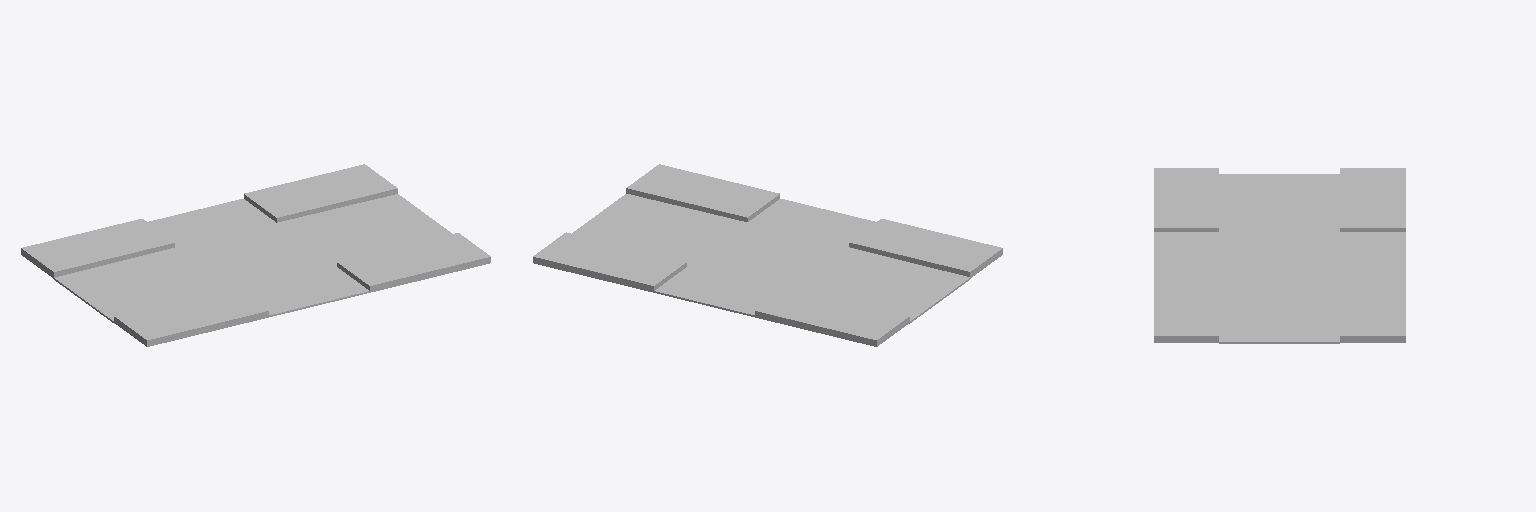
The model's file is Rua+.obj.
3 renders of one model, left to right at view 1: azimuth 30°, elevation 25°; view 2: azimuth 150°, elevation 25°; view 3: azimuth 270°, elevation 25°, orthographic.
Parts seen in each view (by area): view 1: Cube_Cube.001; view 2: Cube_Cube.001; view 3: Cube_Cube.001.
Boxes of the visible parts, <box> form: Cube_Cube.001: <box>21,164,490,346</box>; Cube_Cube.001: <box>533,164,1002,346</box>; Cube_Cube.001: <box>1154,168,1405,343</box>.
Size of the model in its own units: 79.79 by 1.62 by 50.72.